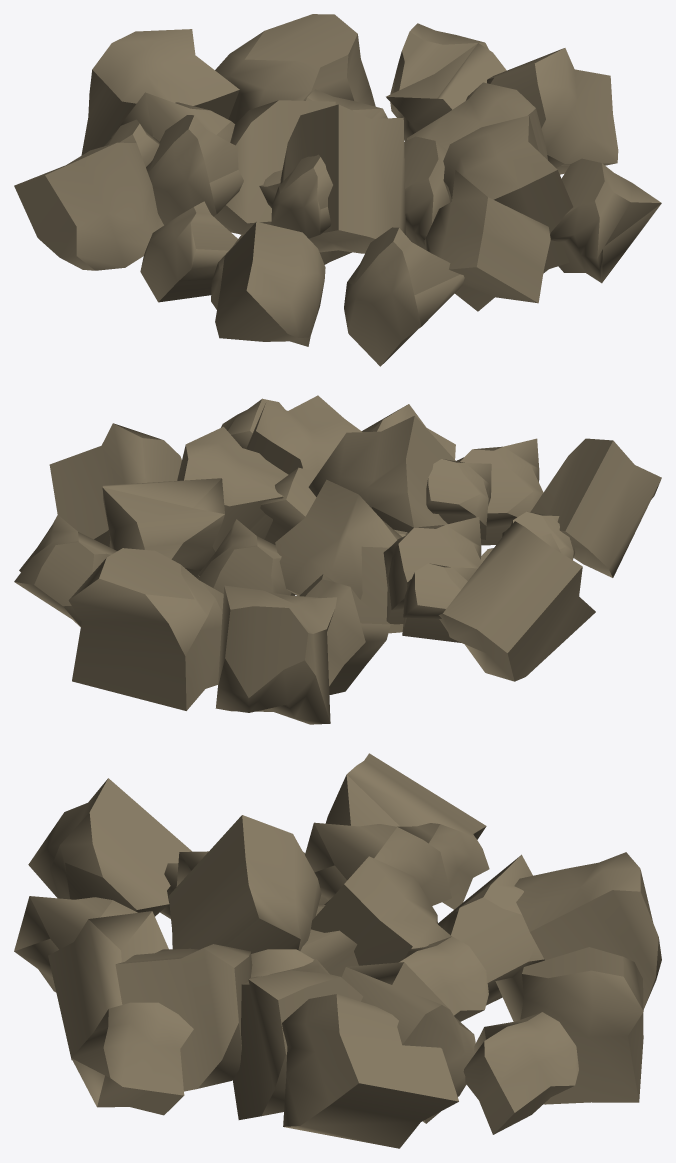
File: Food_HalfEmpty.fbx
The picture shows the model from 3 angles, top to bottom: view 1: azimuth 30°, elevation 25°; view 2: azimuth 150°, elevation 25°; view 3: azimuth 270°, elevation 25°; orthographic projection. The views are drawn at different scales.
Visible parts, largest first — view 1: Half_Empty; view 2: Half_Empty; view 3: Half_Empty.
Boxes of the visible parts, x1,y1,x2,y2 form: Half_Empty: (14,14,661,366); Half_Empty: (14,395,661,724); Half_Empty: (14,753,661,1148).
Bounding box in the file's own units: 2.16 × 0.743 × 2.02.
